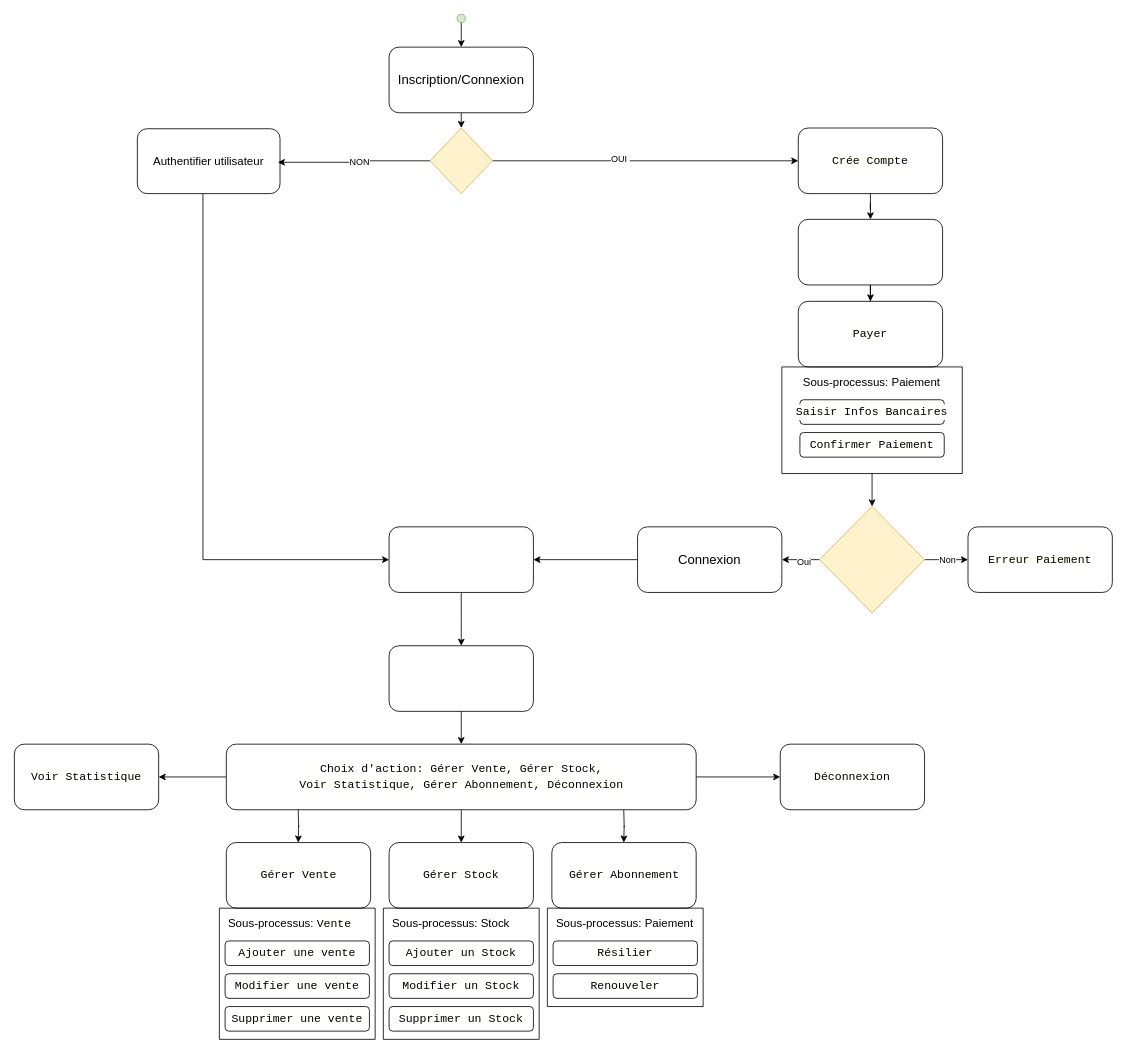
The diagram is 1127 pixels wide and 1054 high, and some of its shapes have lost their labels. The centre of each missing label's shape, as x and y in pixels:
"Acceder Dashboard" goes at (x=460, y=678).
"Choisir Abonnement" goes at (x=870, y=252).
"Nouvel utilisateur?" goes at (x=460, y=160).
"Page d'acceuil" goes at (x=460, y=559).
"Validation Donnees" goes at (x=872, y=559).
